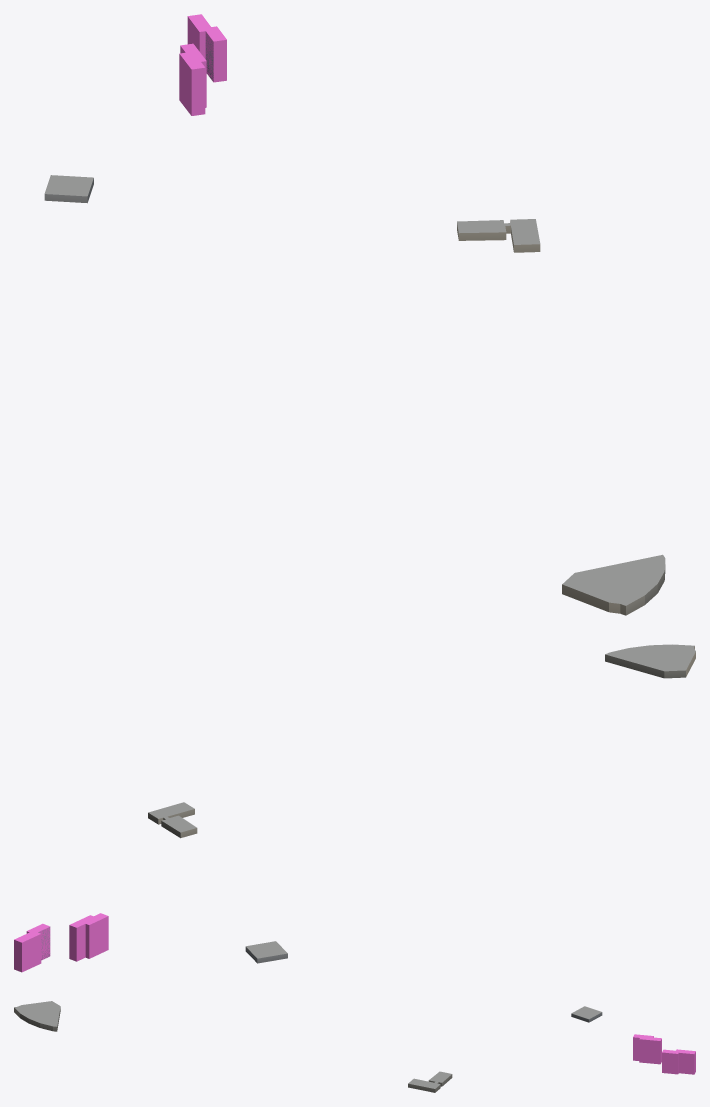
File: bld_11_3.fbx
The picture shows the model from 3 angles, top to bottom: view 1: azimuth 30°, elevation 25°; view 2: azimuth 150°, elevation 25°; view 3: azimuth 270°, elevation 25°; orthographic projection. The views are drawn at different scales.
Visible parts, largest first — view 1: bld_11_3_LOD0, bld_11_3_COL; view 2: bld_11_3_LOD0, bld_11_3_COL; view 3: bld_11_3_LOD0, bld_11_3_COL.
Boxes of the visible parts, x1,y1,x2,y2 form: bld_11_3_LOD0: (44,34,665,615); bld_11_3_COL: (179,14,226,115); bld_11_3_LOD0: (38,644,695,963); bld_11_3_COL: (14,913,108,972); bld_11_3_LOD0: (14,1001,602,1092); bld_11_3_COL: (633,1034,695,1074).
Size of what is drawn, in the model's own units: 489 by 61.08 by 1620.
